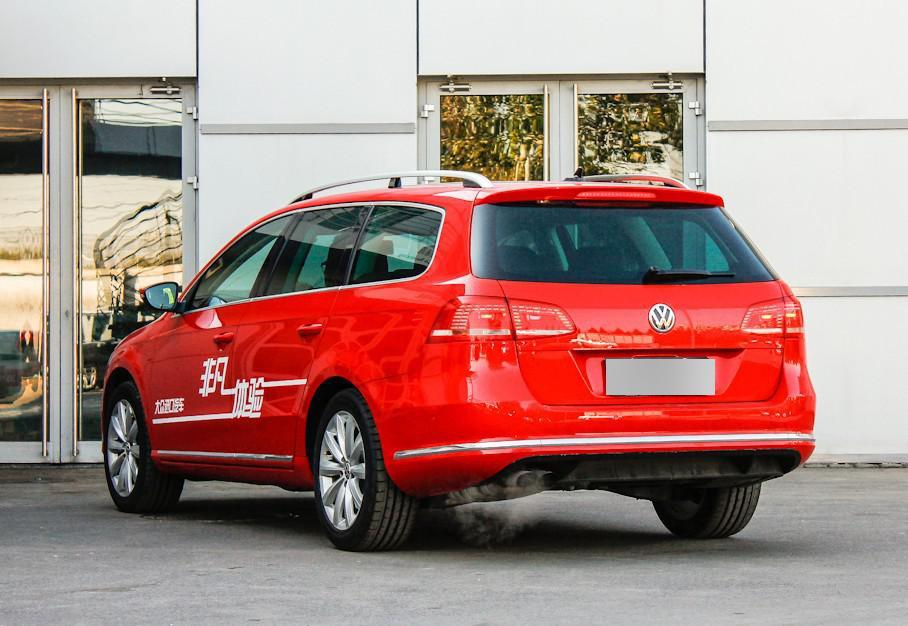Wagon: (99, 168, 819, 553)
